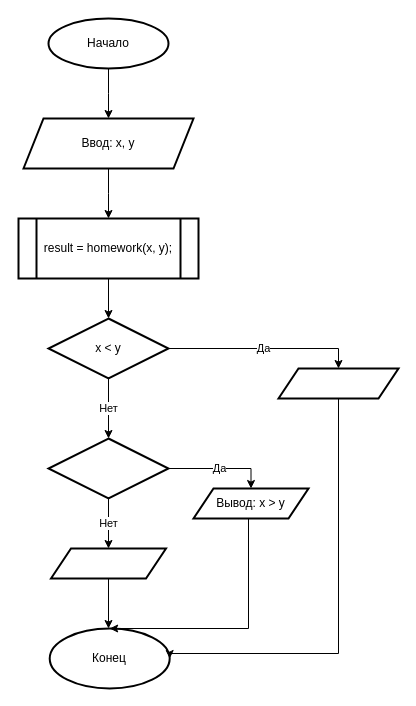
This 416x706 diagram has some shape labels left out. Each missing label, with the centre of its shape:
"x > y" belongs at pixel 108 468.
"Вывод: x < y" belongs at pixel 338 383.
"Вывод: x = y" belongs at pixel 108 563.
